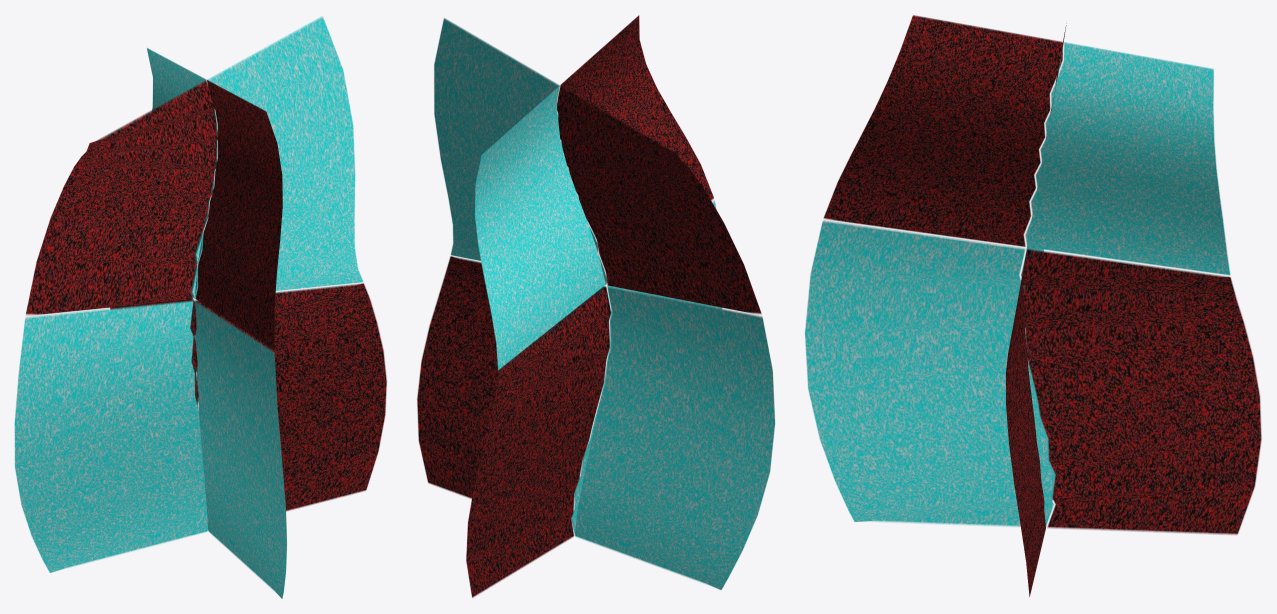
3 renders of one model, left to right at view 1: azimuth 30°, elevation 25°; view 2: azimuth 150°, elevation 25°; view 3: azimuth 270°, elevation 25°, orthographic. The views are drawn at different scales.
Parts seen in each view (by area): view 1: SM_VFX_XRibbon_Curved_03_56_LOD0; view 2: SM_VFX_XRibbon_Curved_03_56_LOD0; view 3: SM_VFX_XRibbon_Curved_03_56_LOD0.
Part boxes in pixels (left/top/right/bottom): SM_VFX_XRibbon_Curved_03_56_LOD0: left=14, top=16, right=386, bottom=598; SM_VFX_XRibbon_Curved_03_56_LOD0: left=417, top=15, right=775, bottom=597; SM_VFX_XRibbon_Curved_03_56_LOD0: left=805, top=15, right=1261, bottom=596.
Bounding box in the file's own units: 2.32 × 3.02 × 2.31.
Materials: 1 (1 with a texture image).
